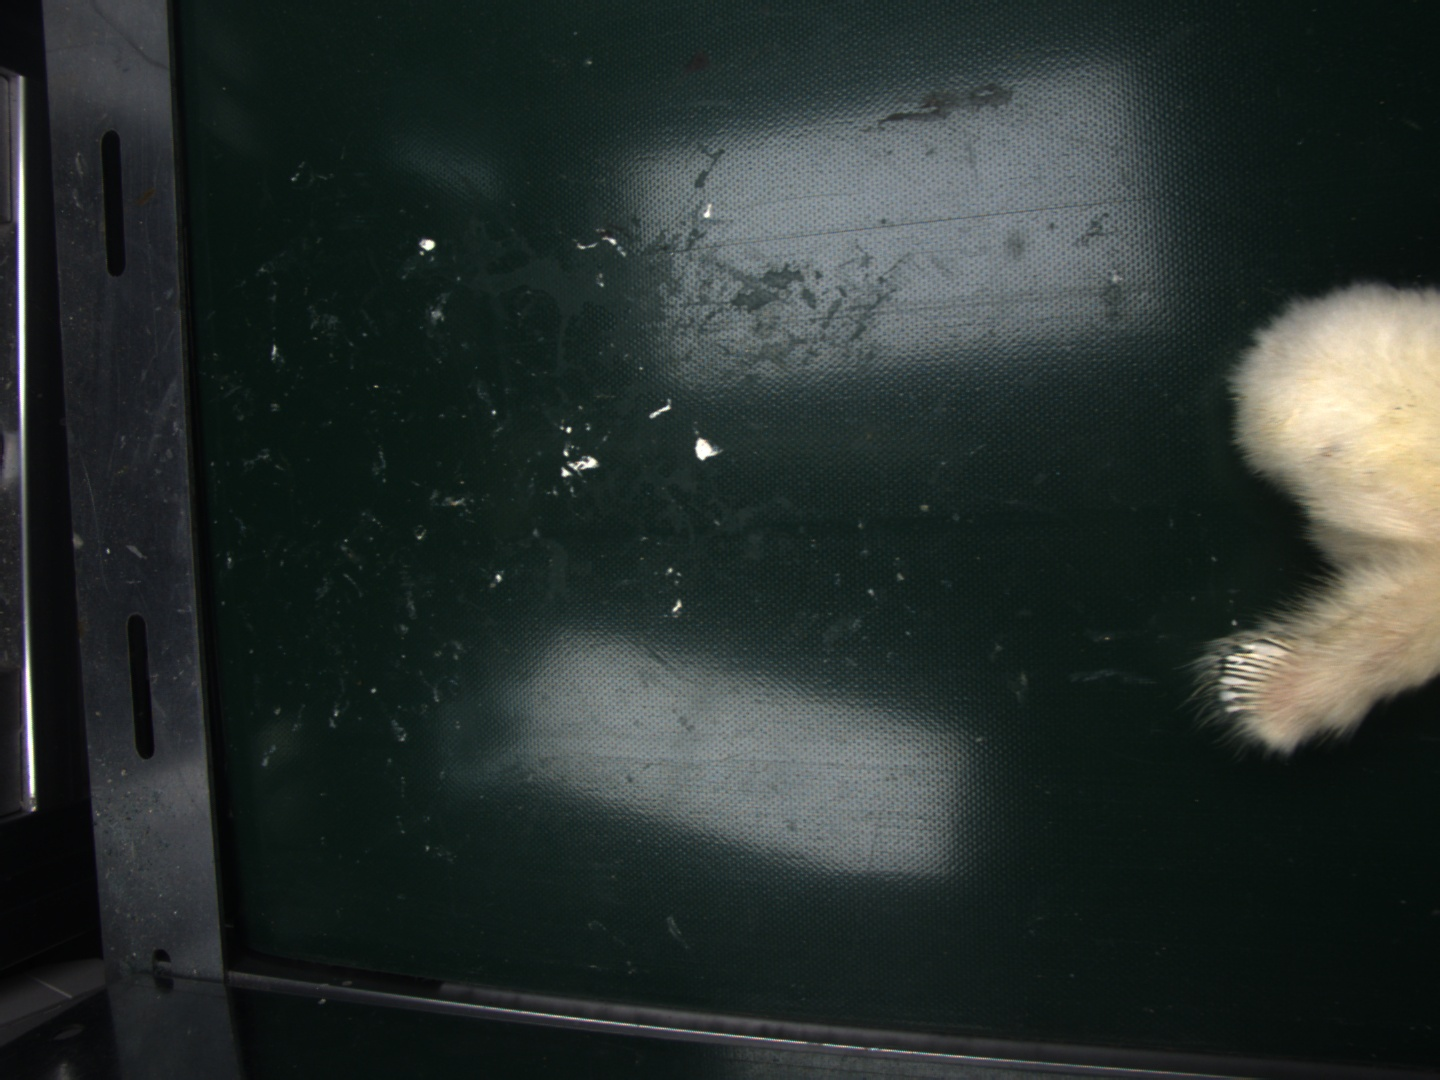male: (1214, 633, 1296, 720)
